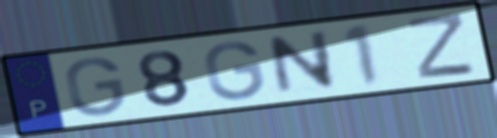1: (341, 21, 381, 90)
8: (136, 49, 194, 109)
G: (202, 39, 267, 102), (63, 55, 128, 118)
N: (265, 28, 340, 99)
Z: (404, 11, 478, 80)
